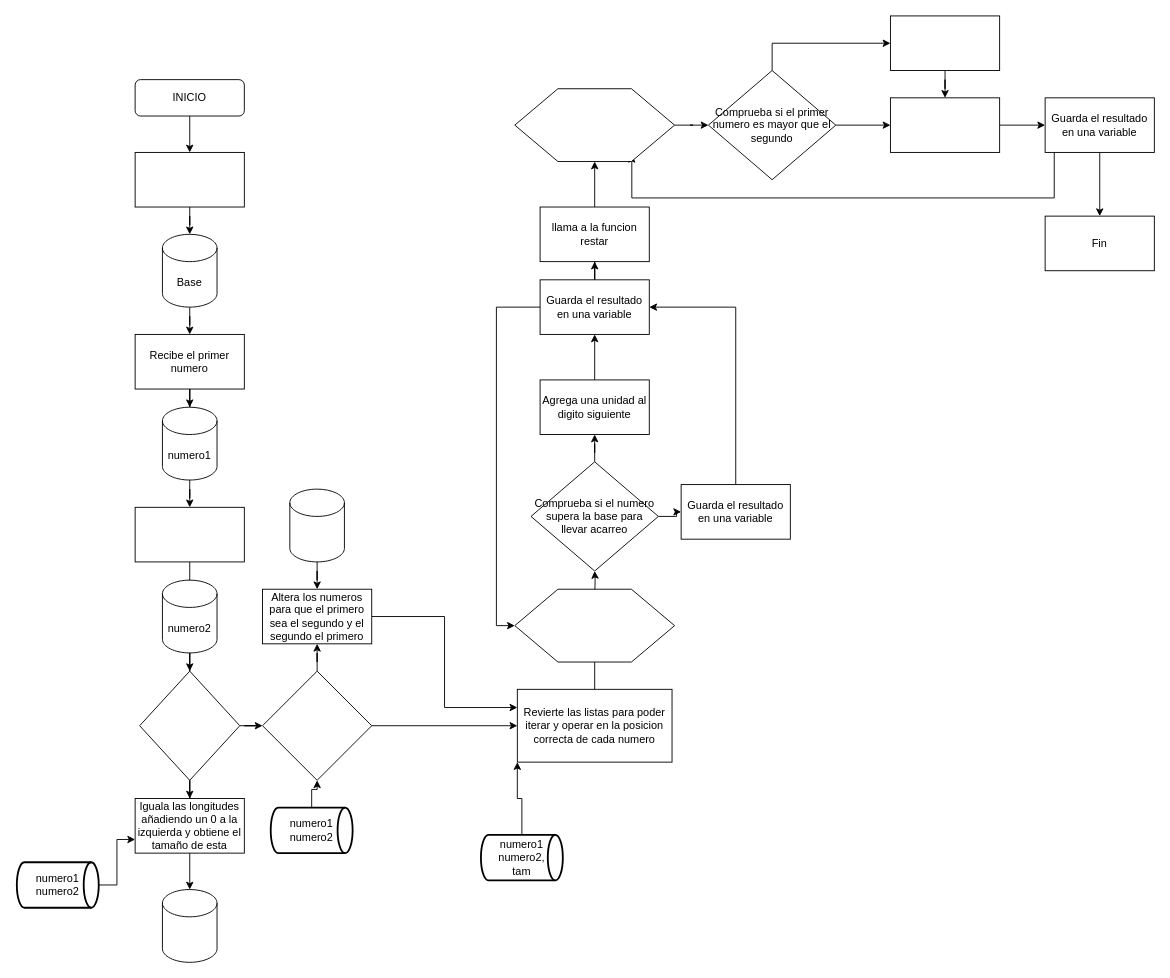
This 1170x978 diagram has some shape labels left out. Each missing label, with the centre of its shape:
Disminuye una unidad al digito siguiente y le suma la base al digito actual: the point at 945,43
El primer numero es mayor?: the point at 317,725
Las listas tiene la misma longitud: the point at 189,725
numero1, numero2,: the point at 316,525
numero1, numero2, tam: the point at 189,925
Realiza la operación suma del elemento en x posición: the point at 594,625
Realiza la resta en la posicion x de los dos numeros: the point at 945,124
Recibe el segundo numero: the point at 189,534
Recibe la base de los numeros a operar: the point at 189,179
